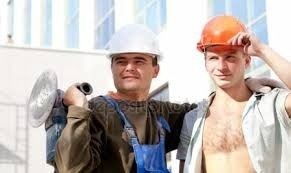helmet: (102, 21, 168, 58), (193, 13, 256, 51)
person with partial safety: (187, 10, 289, 170), (85, 22, 182, 173)
